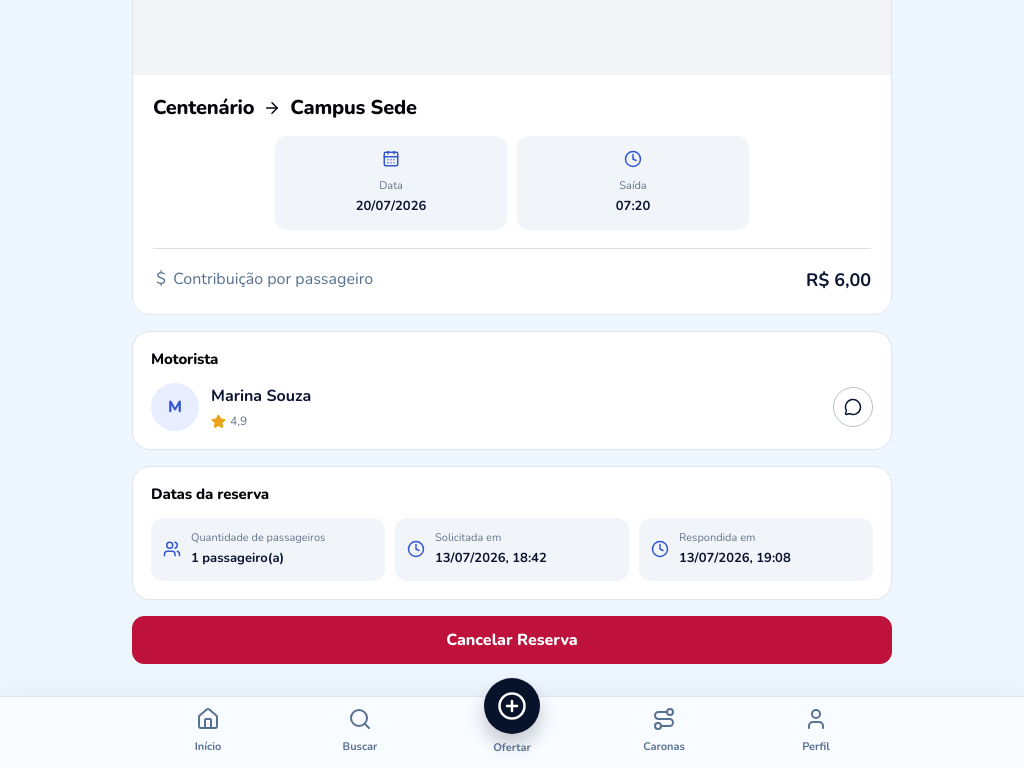
Test case: modal de cancelamento › confirma o cancelamento: atualiza status, esconde o botão, fecha o modal e mostra sucesso
The width and height of the screenshot is (1024, 768).
(page scrolled)
Click the button "Cancelar Reserva" at point(512, 640), box [132, 616, 892, 664]
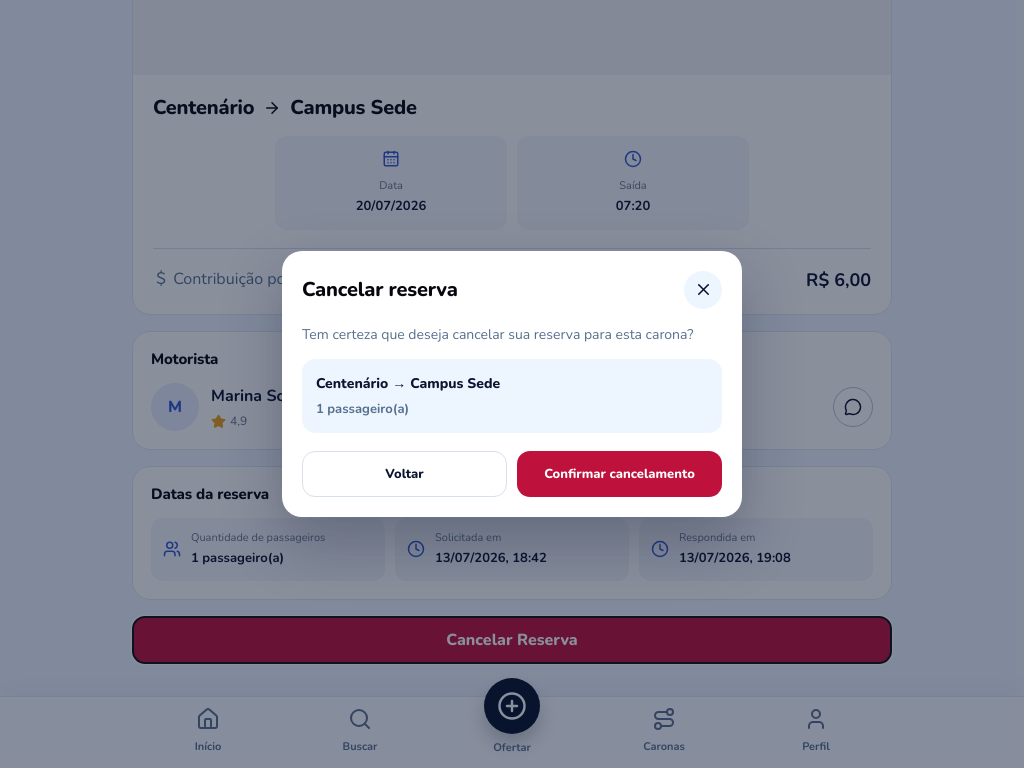
Click the button "Confirmar cancelamento" at point(620, 474), box [517, 451, 722, 497]
(page scrolled)
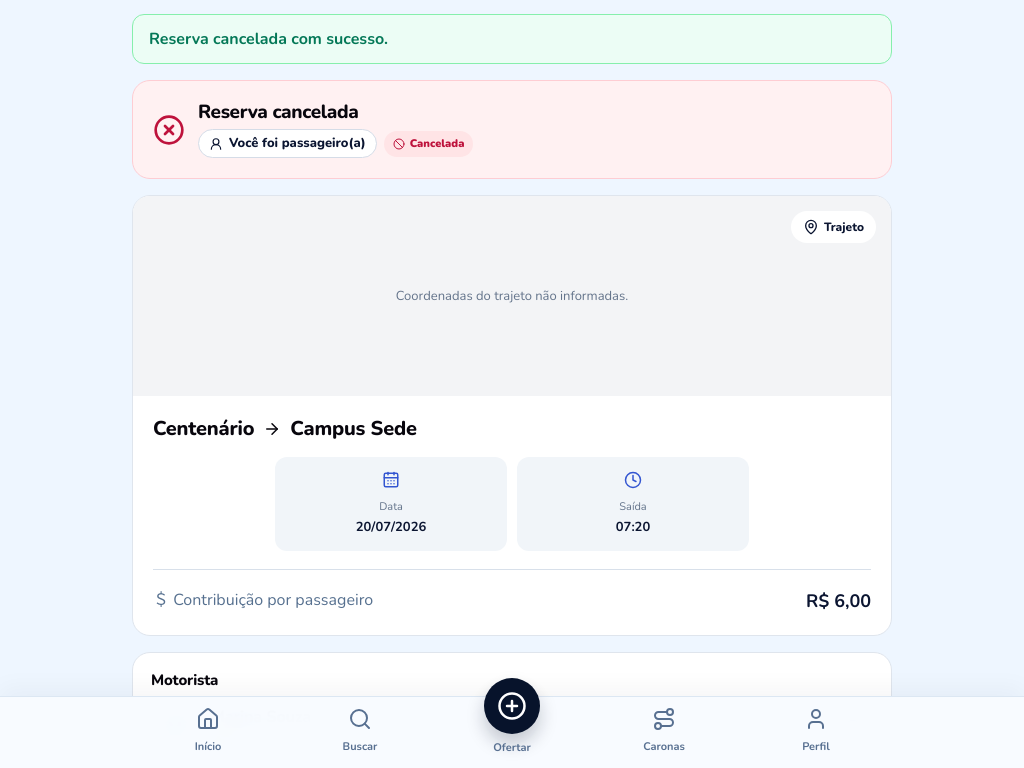
Result: the text "Reserva cancelada com sucesso." is shown at [132, 14, 892, 64]
Result: the heading "Reserva cancelada" is shown at [198, 99, 358, 125]
Result: the button "Cancelar Reserva" is gone
